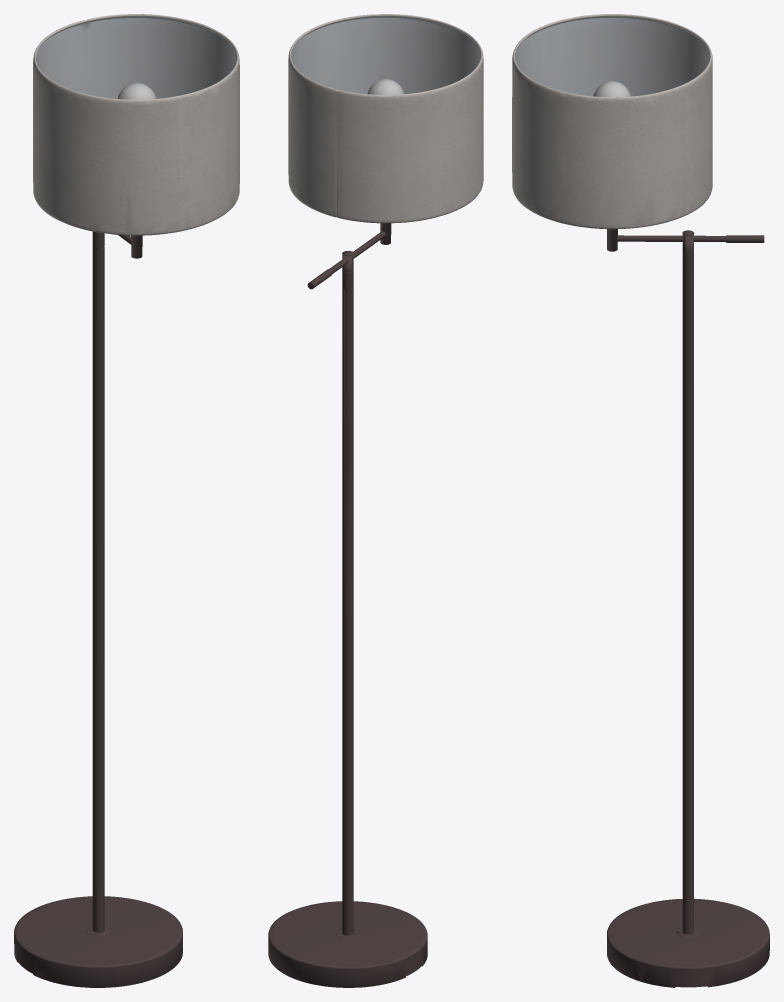
File: B0828FBDV7.glb
3 renders of one model, left to right at view 1: azimuth 30°, elevation 25°; view 2: azimuth 150°, elevation 25°; view 3: azimuth 270°, elevation 25°, orthographic. The views are drawn at different scales.
Parts seen in each view (by area): view 1: RootNode; view 2: RootNode; view 3: RootNode.
Part boxes in pixels (x1=…): RootNode: x1=14, y1=14, x2=239, y2=987; RootNode: x1=268, y1=14, x2=483, y2=987; RootNode: x1=512, y1=14, x2=769, y2=987.
Bounding box in the file's own units: 0.3243 × 1.6 × 0.4164.
1 material, 1 textured.
